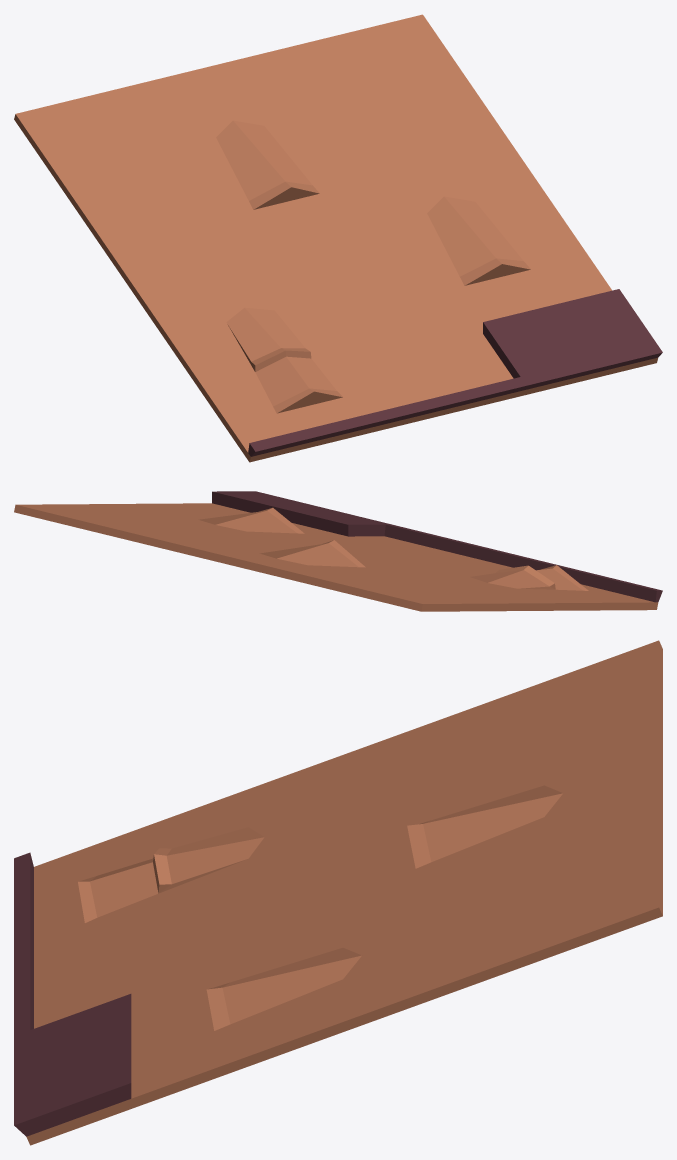
Rendered from empire-roof-acroterion-platform-r-big-3m-empire.glb.
3 renders of one model, top to bottom at view 1: azimuth 30°, elevation 25°; view 2: azimuth 150°, elevation 25°; view 3: azimuth 270°, elevation 25°, orthographic. The views are drawn at different scales.
Parts seen in each view (by area): view 1: SM_Roof_Acroterion_Platform_R_Big_3m_Empire; view 2: SM_Roof_Acroterion_Platform_R_Big_3m_Empire; view 3: SM_Roof_Acroterion_Platform_R_Big_3m_Empire.
Part boxes in pixels (x1,y1,x2,y2): SM_Roof_Acroterion_Platform_R_Big_3m_Empire: (14,14,662,462); SM_Roof_Acroterion_Platform_R_Big_3m_Empire: (14,491,662,611); SM_Roof_Acroterion_Platform_R_Big_3m_Empire: (14,640,662,1145).
Bounding box in the file's own units: 3 × 1.25 × 3.08.
